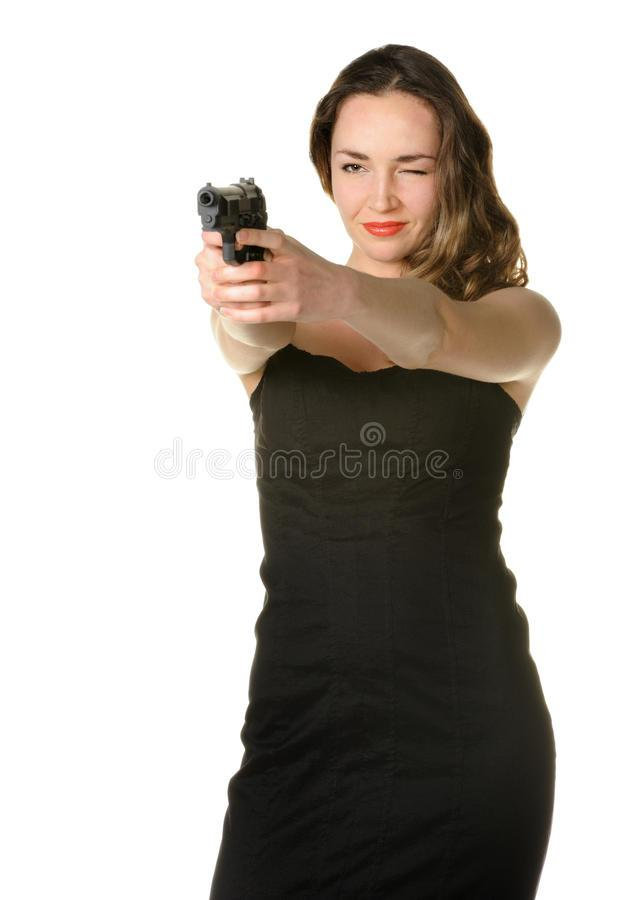criminal: (191, 36, 564, 900)
weapon: (193, 170, 278, 276)
